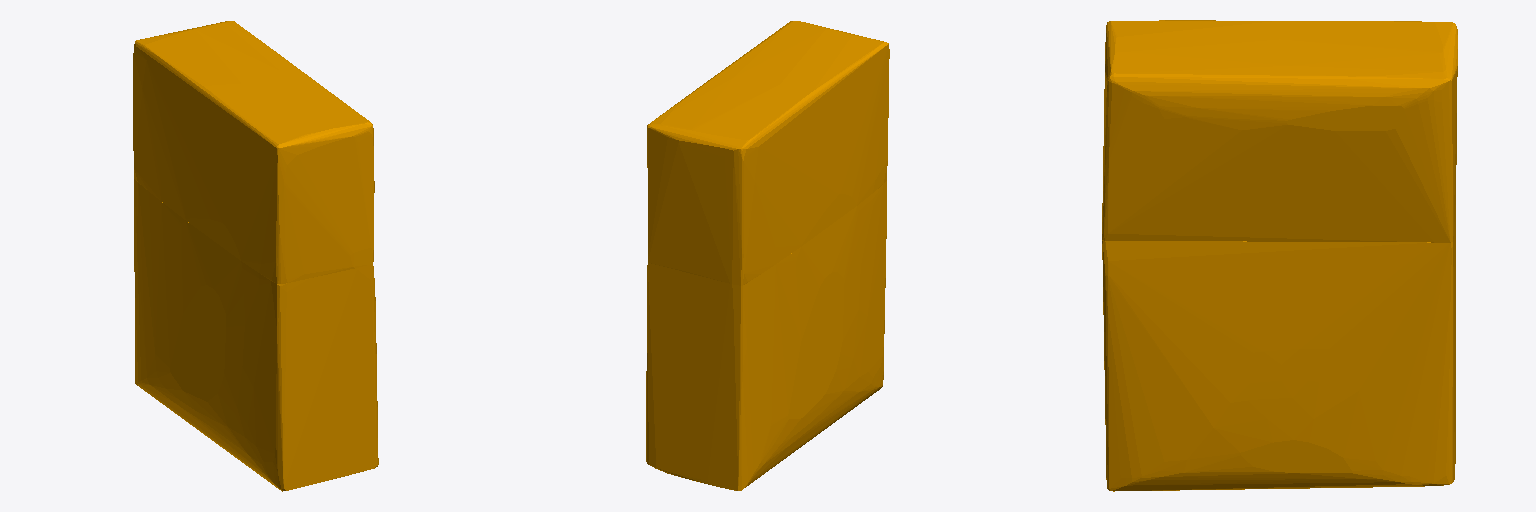
URDF robot description (003_cracker_box):
<?xml version="1.0" encoding="UTF-8"?>
<robot name="003_cracker_box">
	<link name="base">
		<collision>
			<geometry>
				<mesh filename="..\vhacd\003_cracker_box_vhacd.obj" scale="1.0 1.0 1.0"/>
			</geometry>
			<origin xyz="0 0 0"/>
			<contact_coefficients mu="0.24" />
		</collision>
		<visual>
			<geometry>
				<mesh filename="..\vhacd\003_cracker_box_vhacd.obj" scale="1.0 1.0 1.0"/>
			</geometry>
			<origin xyz="0 0 0"/>
		</visual>
		<inertial>
			<mass value="0.411"/>
			<inertia ixx="0.0023954891532557312" ixy="-4.994691220372142e-07" ixz="1.5286675585697854e-05" iyy="0.0016821716659656807" iyz="5.453591866462642e-06" izz="0.0009995042789259743" />
			<origin xyz="-0.014853557796427268 -0.014205054477502178 0.1022048683926028"/>
		</inertial>
	</link>
</robot>

--- Render facts (derived) ---
Views: 3 orthographic renders of the robot side by side, from view 1: azimuth 30°, elevation 25°; view 2: azimuth 150°, elevation 25°; view 3: azimuth 270°, elevation 25°.
Model 003_cracker_box with 1 links and 0 joints (none), rooted at base, posed all joints at 0.
Links seen in each view (by area): view 1: base; view 2: base; view 3: base.
Link boxes in pixels (x1,y1,x2,y2): base: (133, 21, 378, 491); base: (646, 21, 889, 490); base: (1102, 20, 1457, 491).
Size in the robot's own frame: 0.0725 by 0.1645 by 0.2141 metres.
1 mesh visuals loaded from 1 distinct referenced files (1 OBJ).